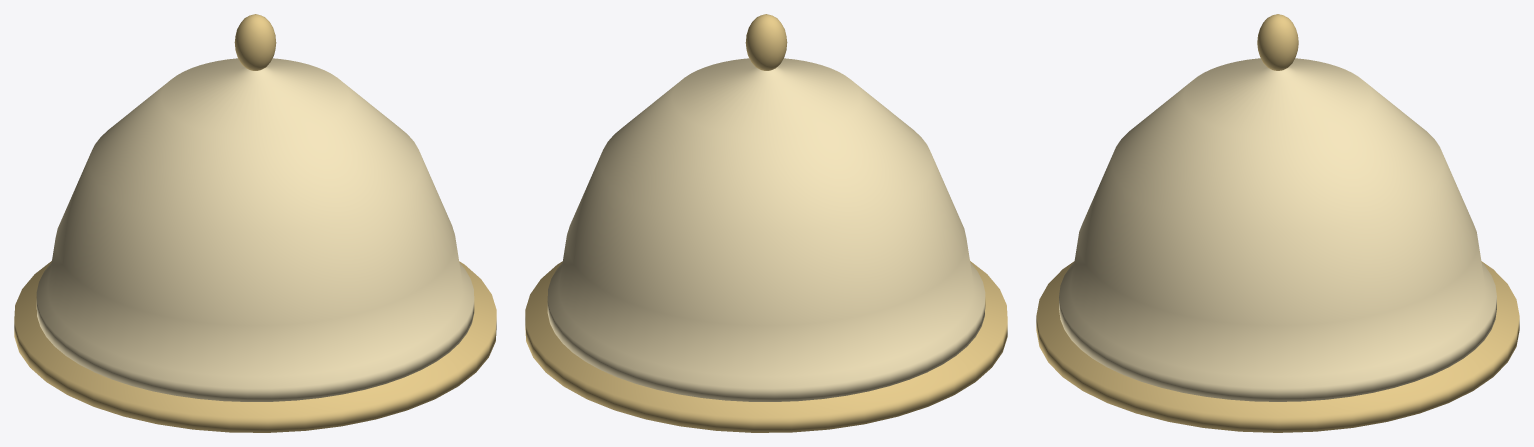
File: hospitality-cloche.glb
The picture shows the model from 3 angles, left to right: view 1: azimuth 30°, elevation 25°; view 2: azimuth 150°, elevation 25°; view 3: azimuth 270°, elevation 25°; orthographic projection.
Visible parts, largest first — view 1: dome-0, tray-2, handle-1; view 2: dome-0, tray-2, handle-1; view 3: dome-0, tray-2, handle-1.
Boxes of the visible parts, bbox=[...] form: dome-0: bbox=[36, 58, 474, 401]; tray-2: bbox=[14, 261, 496, 432]; handle-1: bbox=[234, 14, 276, 70]; dome-0: bbox=[547, 58, 985, 401]; tray-2: bbox=[525, 261, 1007, 432]; handle-1: bbox=[745, 14, 787, 70]; dome-0: bbox=[1059, 58, 1496, 401]; tray-2: bbox=[1036, 261, 1519, 432]; handle-1: bbox=[1257, 14, 1298, 70].
Bounding box in the file's own units: 1.28 × 0.9225 × 1.28.
